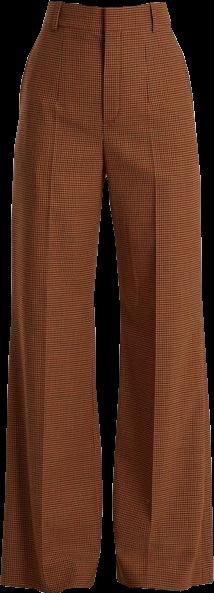Hemline: (114, 575, 212, 592), (0, 578, 89, 592)
Pantleg: (102, 2, 212, 590), (0, 2, 106, 592)
Waistline: (42, 18, 172, 37), (50, 0, 165, 11)
